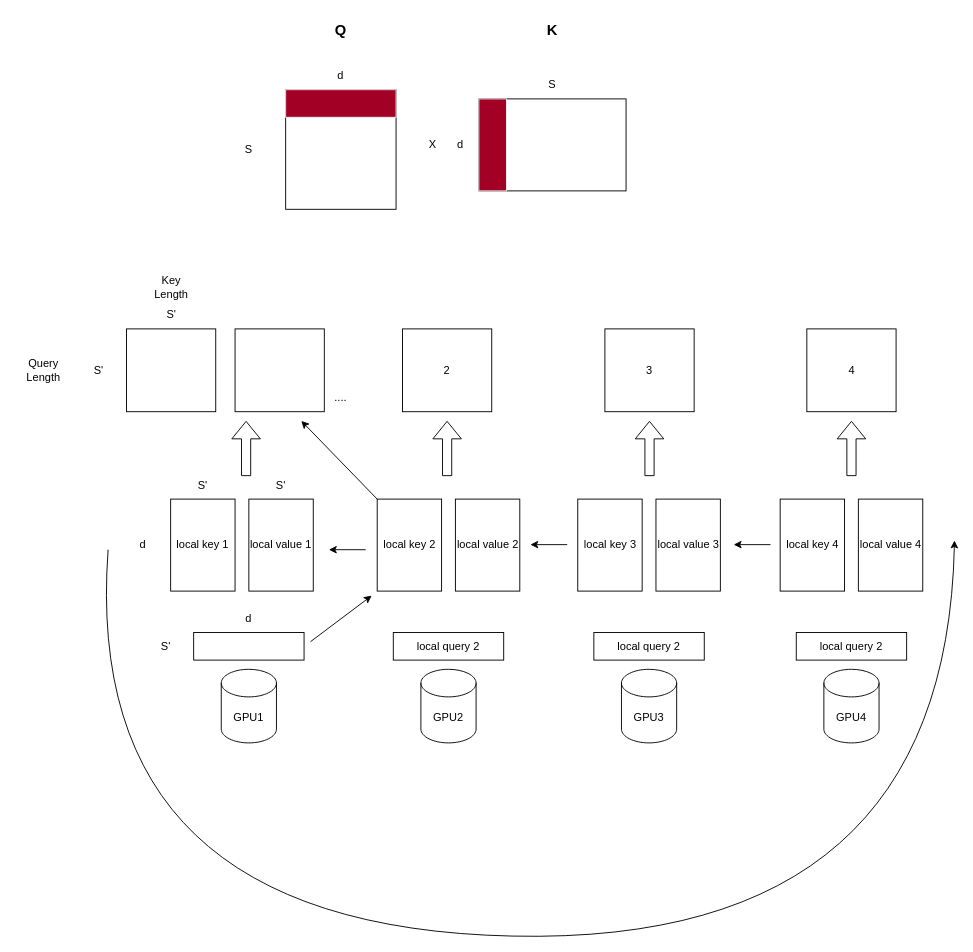
This 973x952 diagram has some shape labels left out. Here are the shapes that lost their labels. From the top down, the box of each, then its label:
(126, 328, 216, 412): local_query1 * local_key1
(234, 328, 324, 412): local_query1 * loca_key2
(193, 632, 304, 660): local query 1
